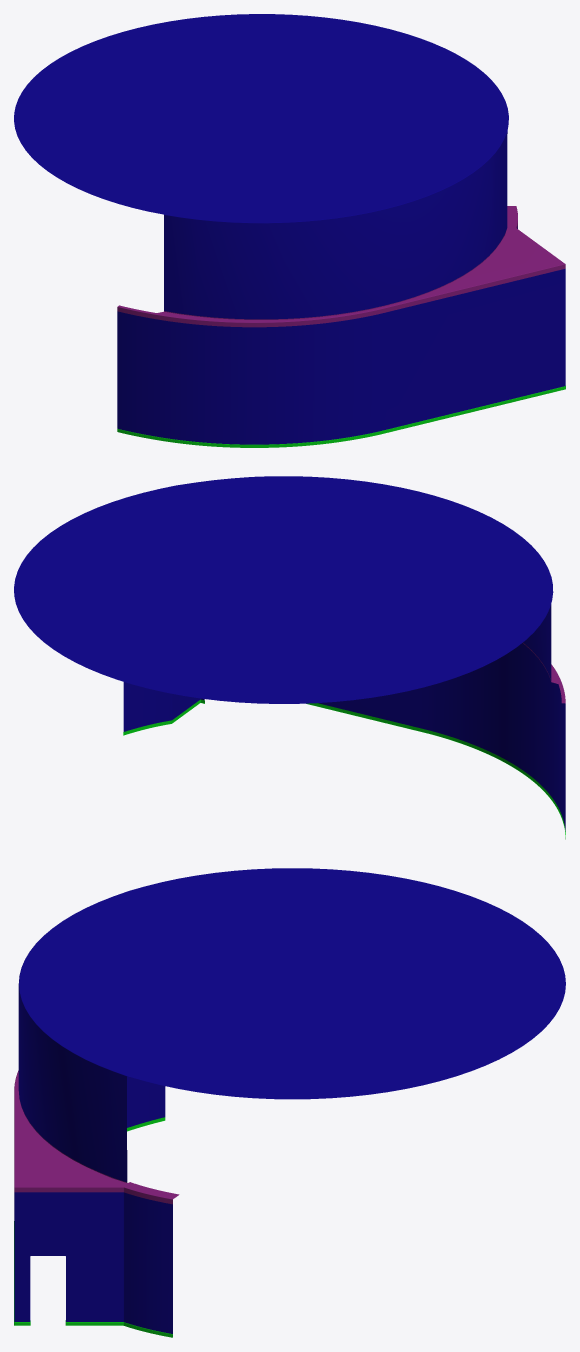
The model's file is StudioBlackout_02_Mesh.fbx.
3 renders of one model, top to bottom at view 1: azimuth 30°, elevation 25°; view 2: azimuth 150°, elevation 25°; view 3: azimuth 270°, elevation 25°, orthographic. The views are drawn at different scales.
Visible parts, largest first — view 1: StudioBlackout_02_Mesh; view 2: StudioBlackout_02_Mesh; view 3: StudioBlackout_02_Mesh.
Boxes of the visible parts, box(x1,y1,x2,y2) form: StudioBlackout_02_Mesh: box(14, 14, 565, 447); StudioBlackout_02_Mesh: box(14, 476, 565, 839); StudioBlackout_02_Mesh: box(14, 868, 565, 1337).
Size of the model in its own units: 1484 by 735 by 1497.
